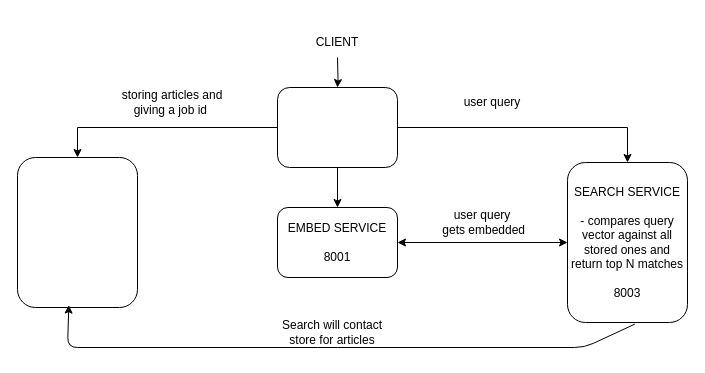
The diagram is 705 pixels wide and 373 high, and some of its shapes have lost their labels. The shapes that lost their labels are listed below. From the top down, each one's box as (x1, y1, x2, y2) in pixels, then its label:
(276, 86, 398, 168): GATEWAY 8000
(16, 156, 138, 308): STORE - SAVES ARTICLE (vectors in memory) 8002
